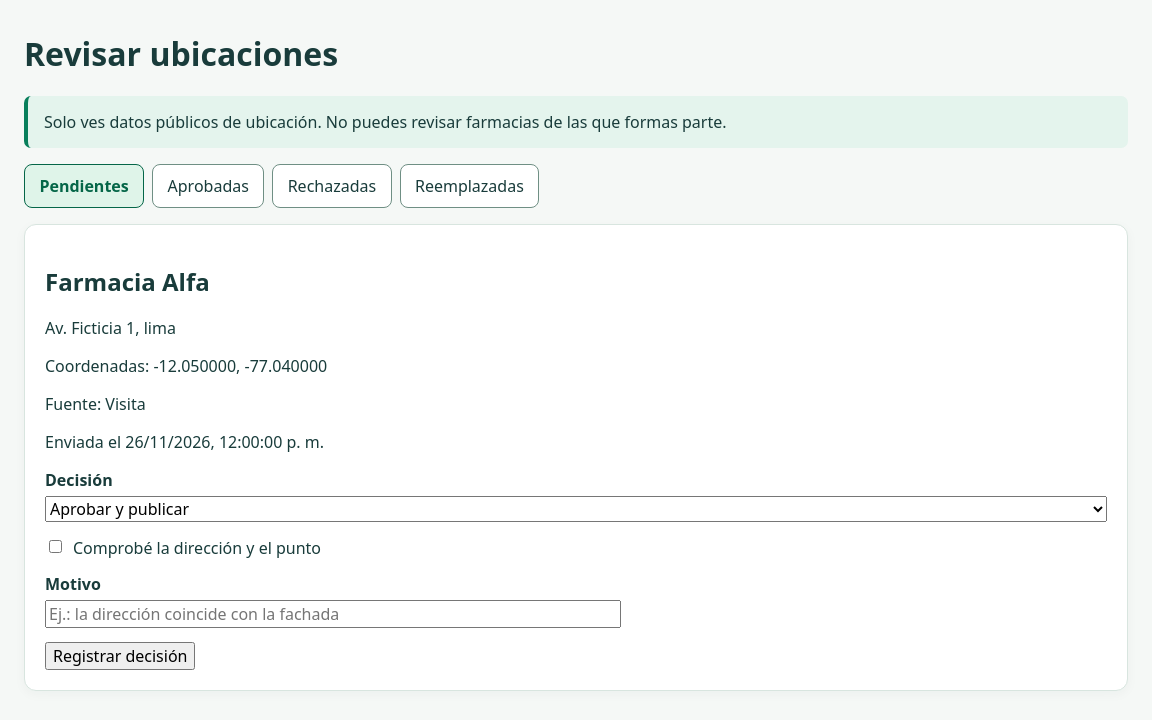
Scenario: F07.1 · revisión de plataforma (FR-005) › lista datos públicos y envía la decisión con versión, evidencia y motivo
Expected: the heading "Farmacia Alfa" is shown, top-left (45, 264), bottom-right (210, 298)
Click the checkbox labelled "Comprobé la dirección y el punto" at (56, 546), box top-left (49, 540), bottom-right (62, 553)
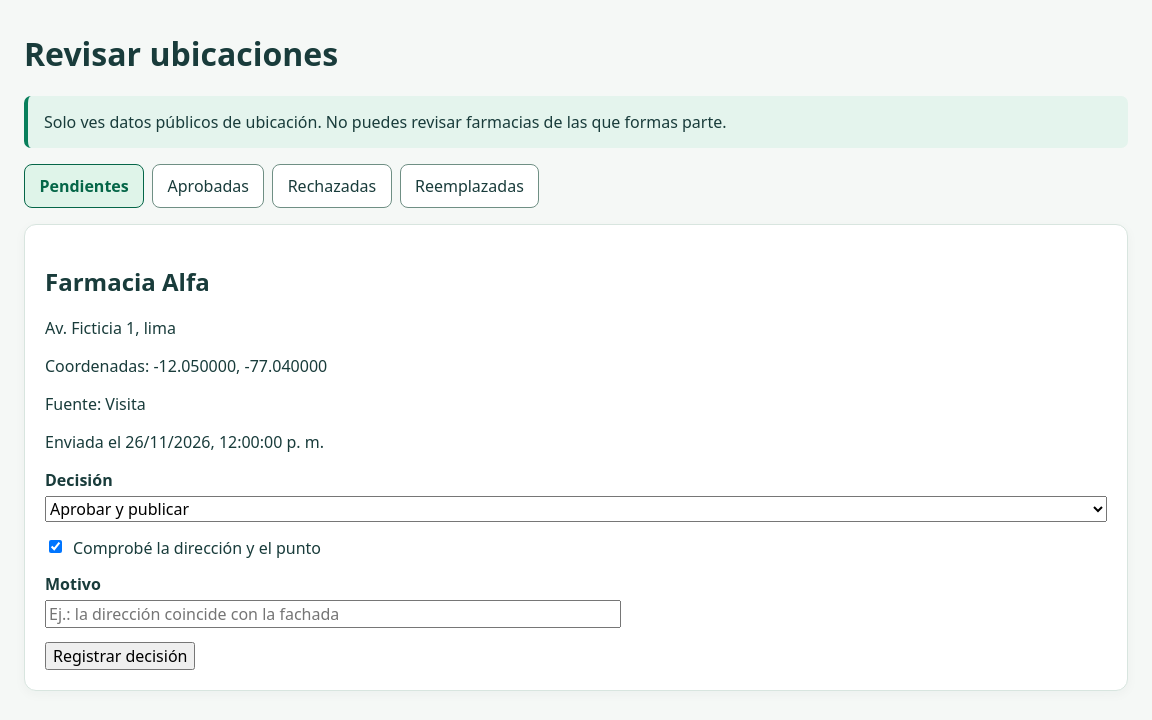
Type "Coincide con la fachada" into the field labelled "Motivo" at (333, 614), box top-left (45, 600), bottom-right (621, 628)
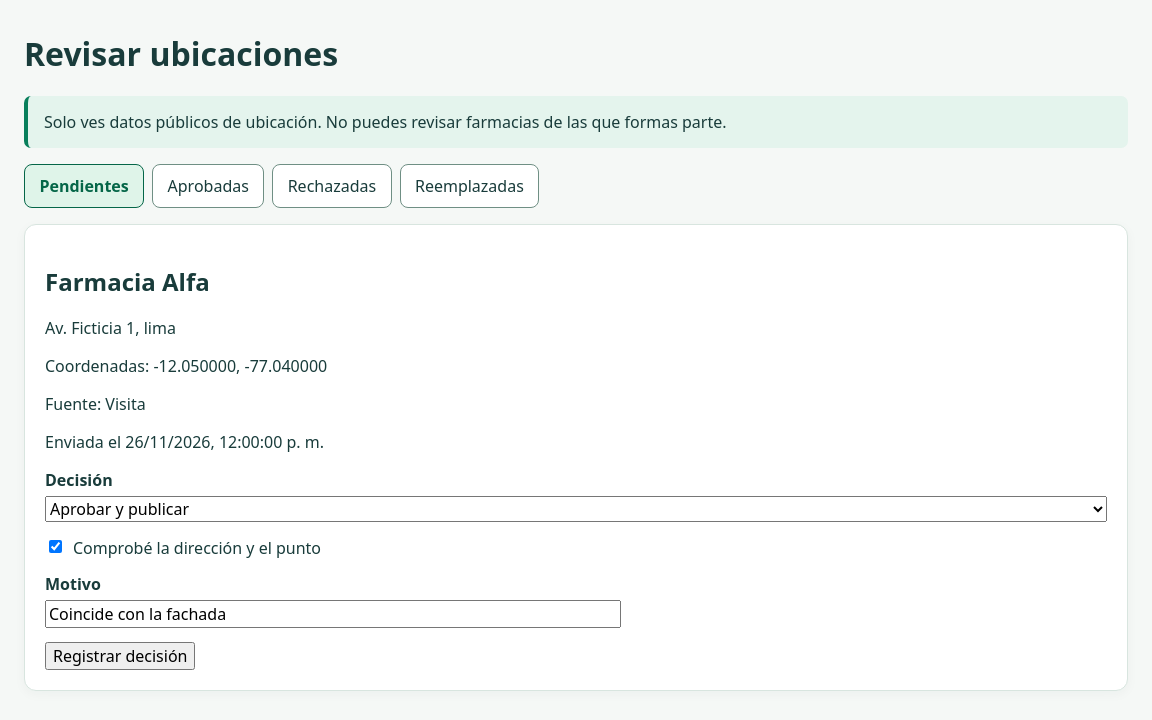
Click the button "Registrar decisión" at (120, 656), box top-left (45, 642), bottom-right (196, 670)
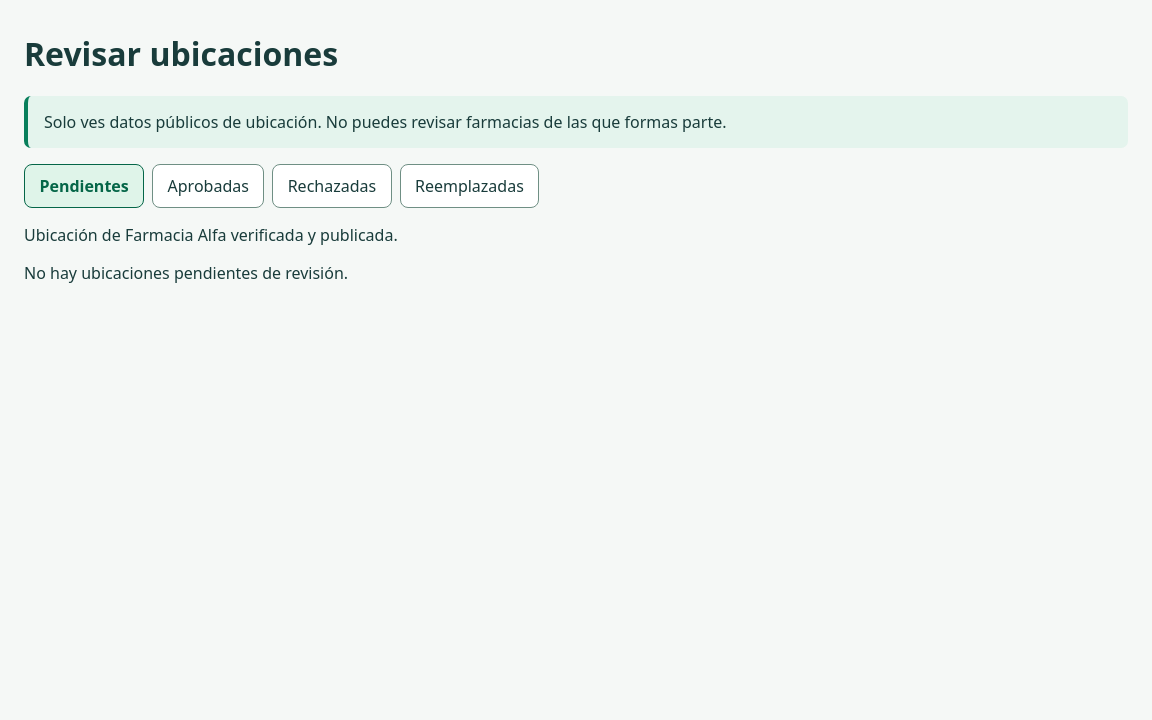
Expected: the text "Ubicación de Farmacia Alfa verificada y publicada." is shown, top-left (24, 224), bottom-right (398, 246)
